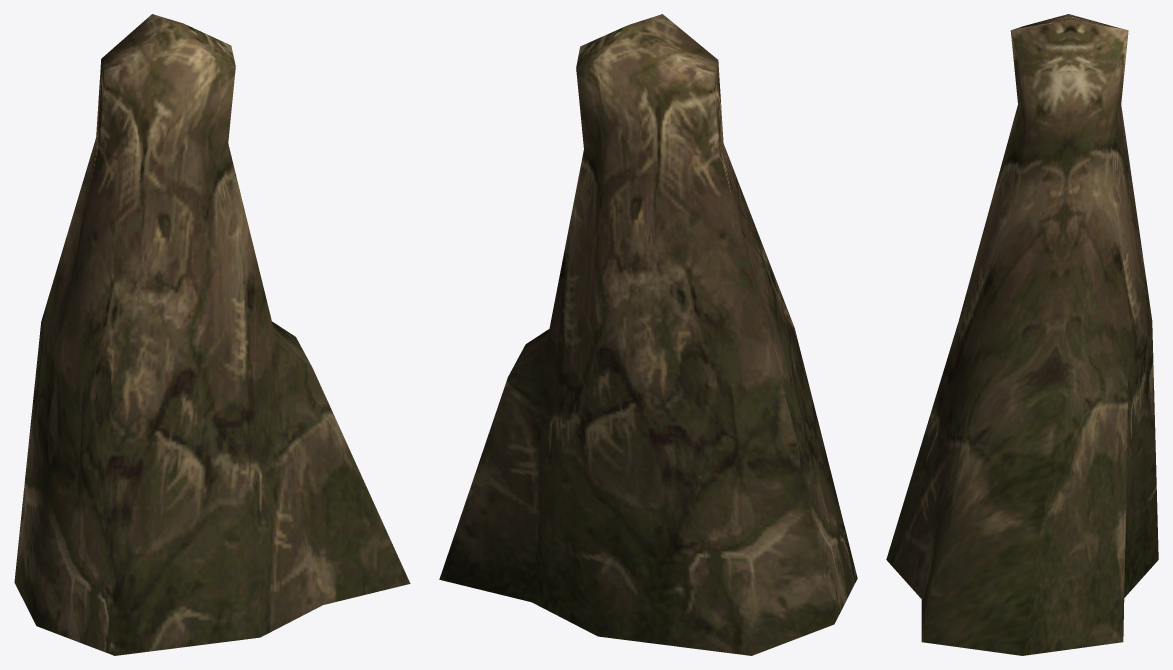
Rendered from zshh_shitou_04.FBX.
The picture shows the model from 3 angles, left to right: view 1: azimuth 30°, elevation 25°; view 2: azimuth 150°, elevation 25°; view 3: azimuth 270°, elevation 25°; orthographic projection. The views are drawn at different scales.
Parts seen in each view (by area): view 1: zshh_shitou_04; view 2: zshh_shitou_04; view 3: zshh_shitou_04.
Part boxes in pixels (box(x1,y1,x2,y2)): zshh_shitou_04: box(14, 14, 410, 655); zshh_shitou_04: box(439, 14, 857, 655); zshh_shitou_04: box(886, 14, 1158, 655).
Size of the model in its own units: 225 by 150 by 332.
